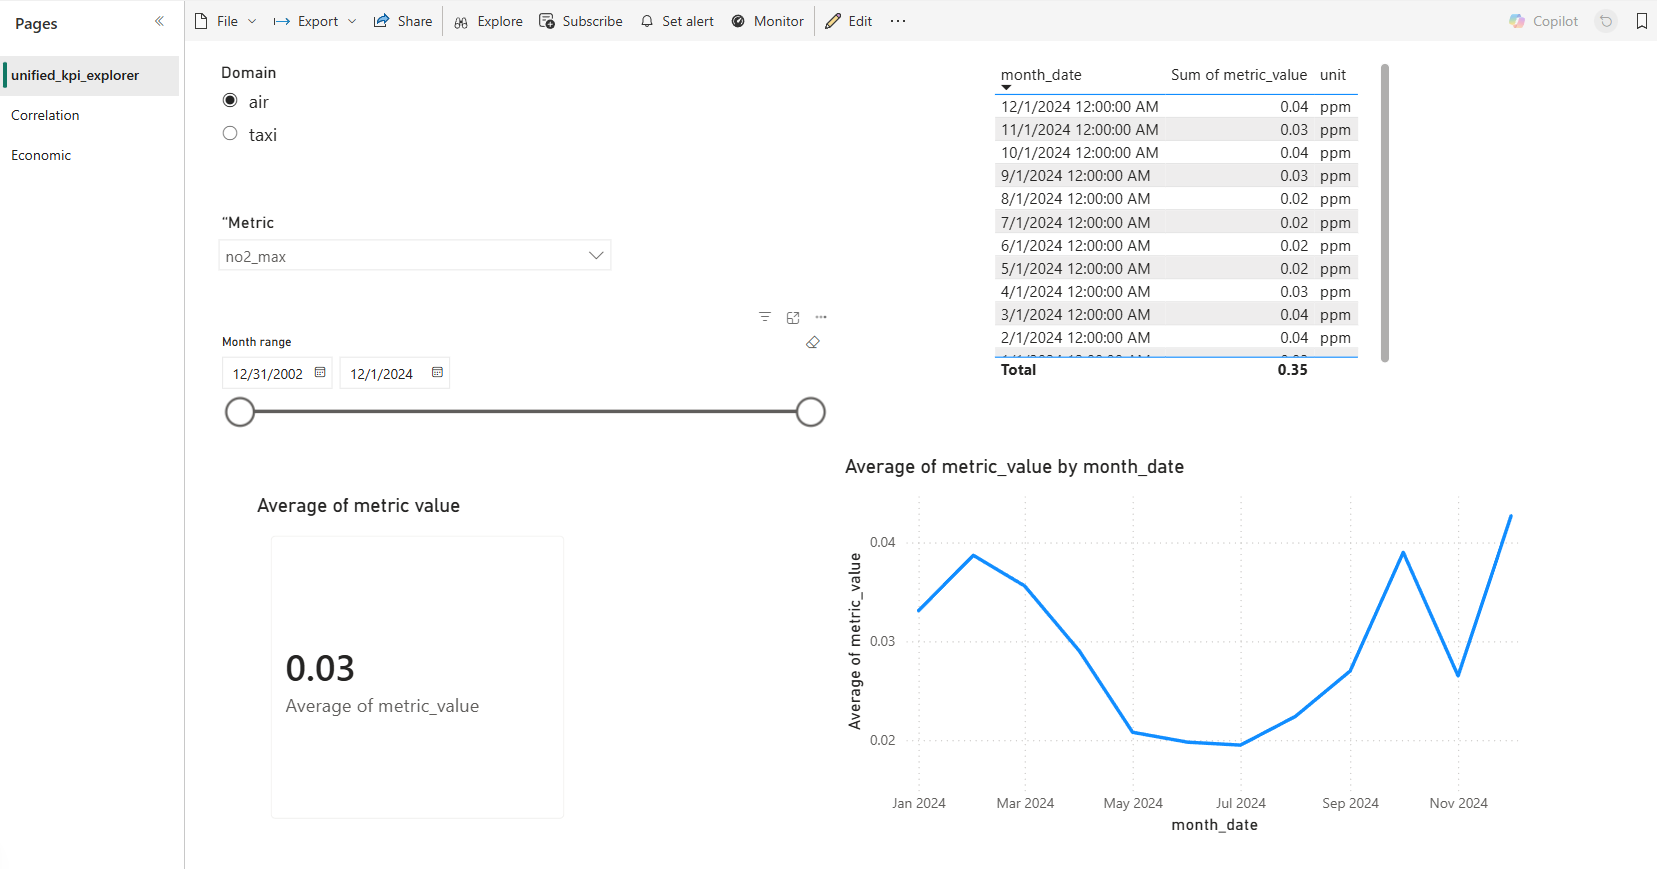

What the dashboard file says about the page in this screenshot:
{"tool":"powerbi","page":{"name":"unified_kpi_explorer","canvas":[1280,720],"ordinal":0},"visuals":[{"type":"slicer","fields":{"Values":["vw_UnifiedMonthly_Long_Complete.domain"]},"box":[18.5,13.8,291.5,86.2],"z":0},{"type":"lineChart","fields":{"Category":["vw_UnifiedMonthly_Long_Complete.month_date"],"Y":["Avg(vw_UnifiedMonthly_Long_Complete.metric_value)"]},"box":[567.1,359.6,614.3,333.4],"z":1000},{"type":"slicer","fields":{"Values":["vw_UnifiedMonthly_Long_Complete.metric_name"]},"box":[18.7,143.9,360.6,68],"z":2000},{"type":"cardVisual","title":"Average of metric value","fields":{"Data":["Avg(vw_UnifiedMonthly_Long_Complete.metric_value)"]},"box":[57.2,393.2,289.7,299.6],"z":3000},{"type":"slicer","fields":{"Values":["vw_UnifiedMonthly_Long_Complete.month_date"]},"box":[18.7,250.3,544.9,109.4],"z":4000},{"type":"tableEx","fields":{"Values":["vw_UnifiedMonthly_Long_Complete.month_date","Sum(vw_UnifiedMonthly_Long_Complete.metric_value)","vw_UnifiedMonthly_Long_Complete.unit"]},"box":[697.3,13.6,353.6,284.5],"z":5000}]}

Visuals, with their boxes on the page's 1280x720 design canvas (x1, y1, x2, y2). These are canvas units, not pixel positions in the 1657x869 screenshot, which may show the page scaled, cropped or inside an application window:
slicer - vw_UnifiedMonthly_Long_Complete.domain: (left=18, top=14, right=310, bottom=100)
lineChart - vw_UnifiedMonthly_Long_Complete.month_date x Avg(vw_UnifiedMonthly_Long_Complete.metric_value): (left=567, top=360, right=1181, bottom=693)
slicer - vw_UnifiedMonthly_Long_Complete.metric_name: (left=19, top=144, right=379, bottom=212)
"Average of metric value" cardVisual: (left=57, top=393, right=347, bottom=693)
slicer - vw_UnifiedMonthly_Long_Complete.month_date: (left=19, top=250, right=564, bottom=360)
tableEx - vw_UnifiedMonthly_Long_Complete.month_date x Sum(vw_UnifiedMonthly_Long_Complete.metric_value): (left=697, top=14, right=1051, bottom=298)
